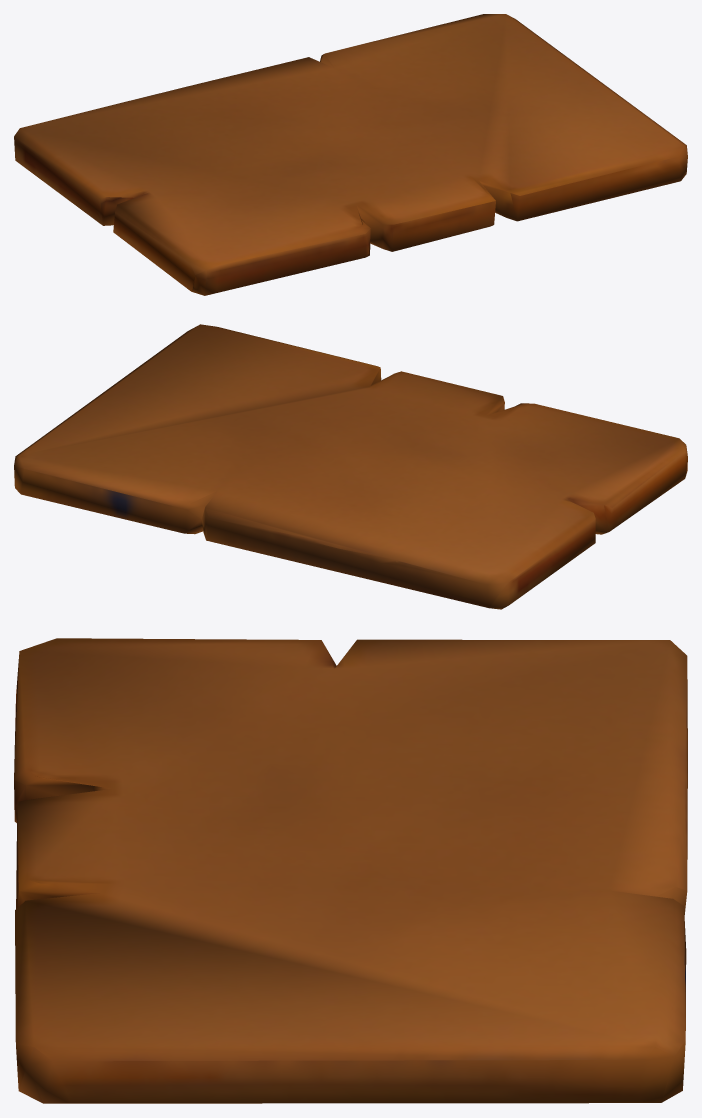
The model's file is mod-tent1-prop3.fbx.
The picture shows the model from 3 angles, top to bottom: view 1: azimuth 30°, elevation 25°; view 2: azimuth 150°, elevation 25°; view 3: azimuth 270°, elevation 25°; orthographic projection. The views are drawn at different scales.
Parts seen in each view (by area): view 1: texture_pbr_v128.003; view 2: texture_pbr_v128.003; view 3: texture_pbr_v128.003.
Boxes of the visible parts, left/top/right/bottom form: texture_pbr_v128.003: left=14, top=14, right=687, bottom=295; texture_pbr_v128.003: left=14, top=324, right=687, bottom=609; texture_pbr_v128.003: left=14, top=638, right=687, bottom=1103.
Size of the model in its own units: 17.8 by 1.15 by 12.09.
1 material, 1 textured.
